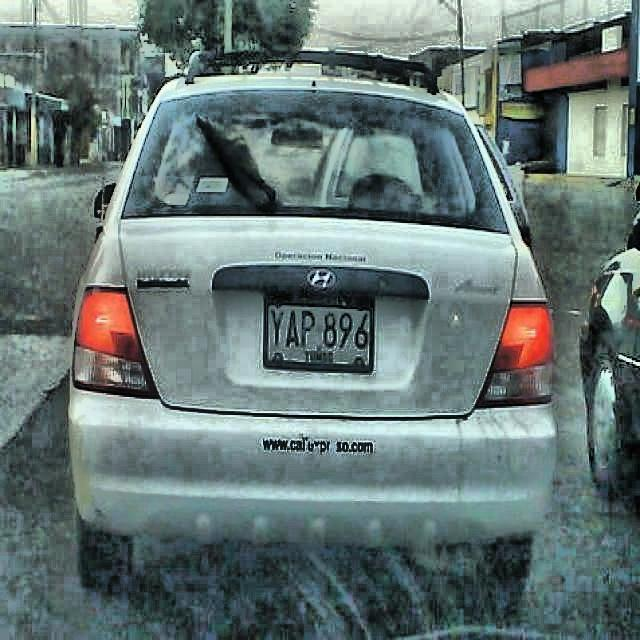plate: (267, 305, 370, 366)
